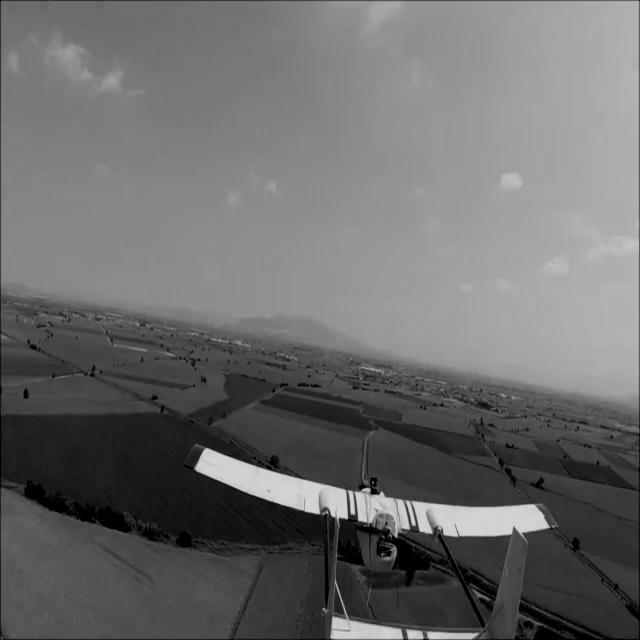iha: (191, 442, 560, 637)
